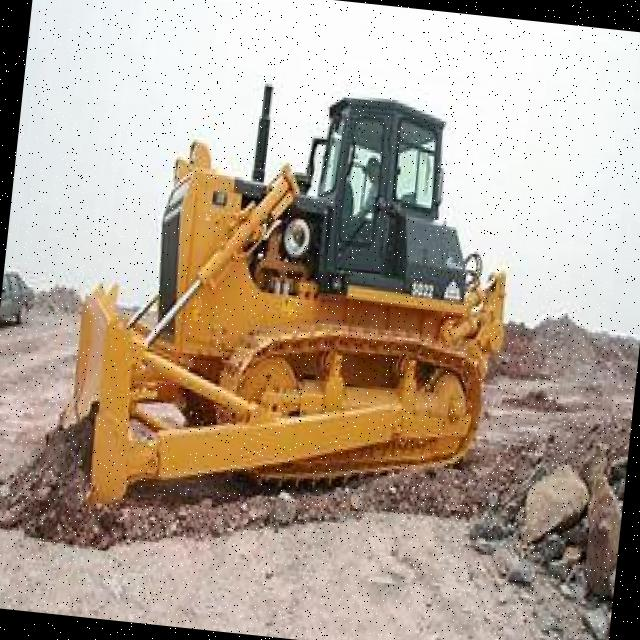Bulldozer: (31, 31, 516, 547)
